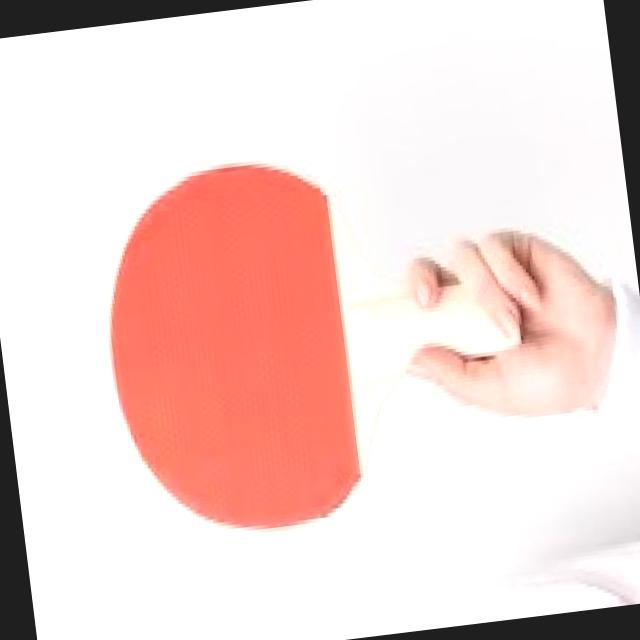TT Racket: (73, 110, 443, 574)
